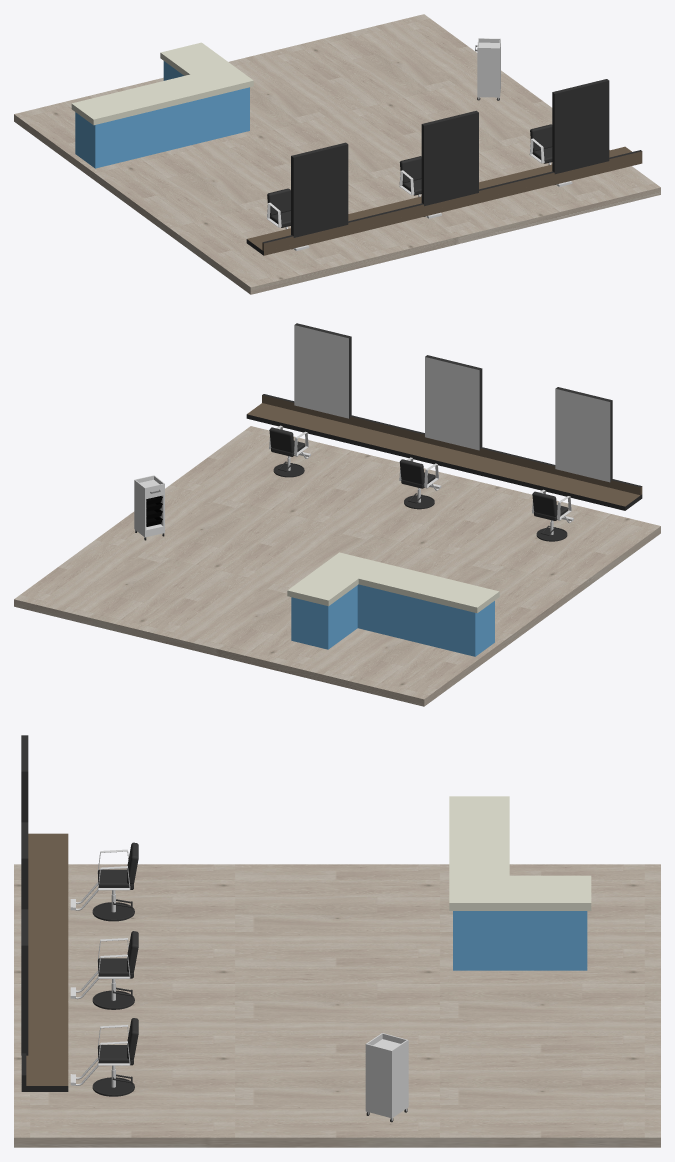
File: hair_salon 1.fbx
3 views of the same model, one above another, from view 1: azimuth 30°, elevation 25°; view 2: azimuth 150°, elevation 25°; view 3: azimuth 270°, elevation 25° (orthographic). The views are drawn at different scales.
Visible parts, largest first — view 1: Floor, counter, Desk, pCube11, pCube9, pCube10, pCube1 (×3), pCube18; view 2: Floor, counter, Desk, pCube9, pCube11, pCube10, pCube18; view 3: Floor, counter, Desk, pCube18, pCylinder3 (×3), pCube9, pCube11, pCube10.
Boxes of the visible parts, x1,y1,x2,y2 form: Floor: (14, 14, 660, 294); counter: (71, 42, 253, 168); Desk: (246, 146, 642, 255); pCube11: (291, 142, 348, 237); pCube9: (552, 79, 609, 174); pCube10: (421, 110, 478, 206); pCube1 (×3): (267, 124, 552, 215); pCube18: (477, 38, 500, 97); Floor: (14, 426, 660, 706); counter: (287, 552, 499, 656); Desk: (246, 394, 642, 510); pCube9: (294, 323, 351, 418); pCube11: (555, 387, 612, 482); pCube10: (425, 355, 482, 450); pCube18: (134, 475, 164, 537); Floor: (14, 864, 660, 1147); counter: (449, 796, 591, 970); Desk: (21, 833, 68, 1091); pCube18: (365, 1033, 408, 1118); pCylinder3 (×3): (92, 902, 134, 1096); pCube9: (21, 909, 28, 1055); pCube11: (21, 735, 28, 822); pCube10: (21, 822, 28, 909).
Size of the model in its own units: 1000 by 289 by 1000.
